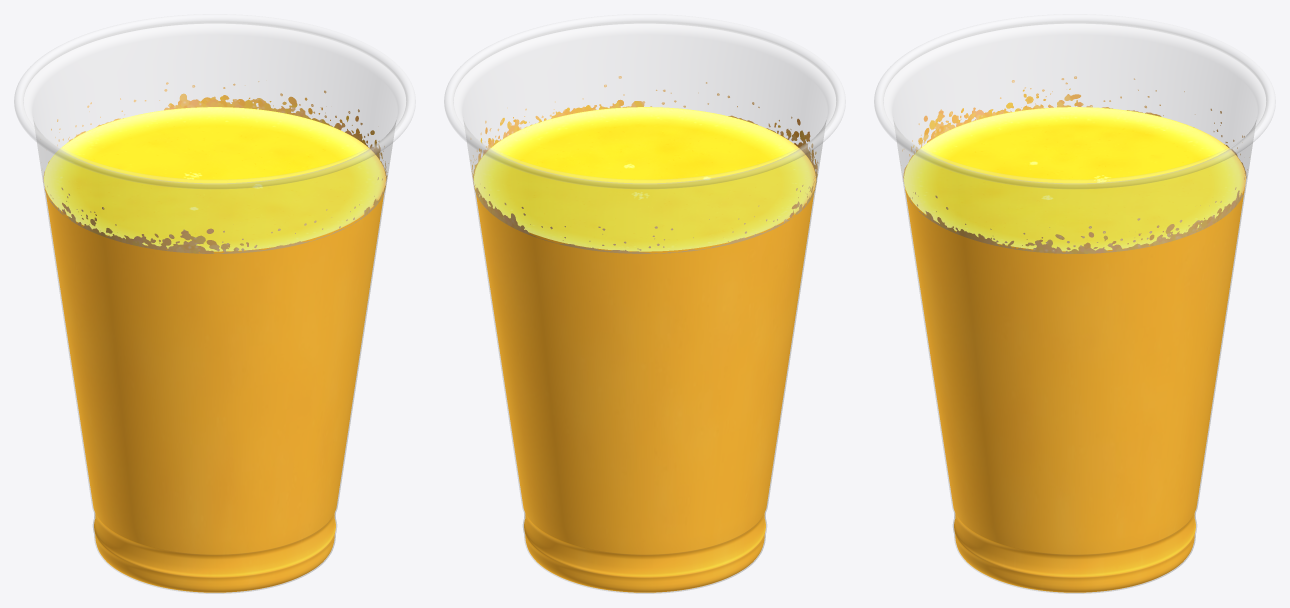
The model's file is higgsfield_juice_cup_m.glb.
The picture shows the model from 3 angles, left to right: view 1: azimuth 30°, elevation 25°; view 2: azimuth 150°, elevation 25°; view 3: azimuth 270°, elevation 25°; orthographic projection.
Parts seen in each view (by area): view 1: PET_cup, Juice, Juice_surface, PET_rim, Juice_residue; view 2: PET_cup, Juice, Juice_surface, PET_rim, Juice_residue; view 3: PET_cup, Juice, Juice_surface, PET_rim, Juice_residue.
Boxes of the visible parts, x1,y1,x2,y2 form: PET_cup: [22, 21, 407, 593]; Juice: [44, 186, 383, 592]; Juice_surface: [44, 107, 385, 251]; PET_rim: [14, 14, 415, 188]; Juice_residue: [43, 81, 388, 253]; PET_cup: [452, 21, 837, 593]; Juice: [474, 186, 814, 592]; Juice_surface: [474, 107, 815, 251]; PET_rim: [444, 14, 845, 188]; Juice_residue: [470, 76, 818, 253]; PET_cup: [882, 21, 1267, 593]; Juice: [904, 186, 1245, 592]; Juice_surface: [904, 107, 1245, 251]; PET_rim: [874, 14, 1275, 188]; Juice_residue: [901, 76, 1249, 253].
Bounding box in the file's own units: 0.095 × 0.117 × 0.095.
Materials: 5 (3 with a texture image).
